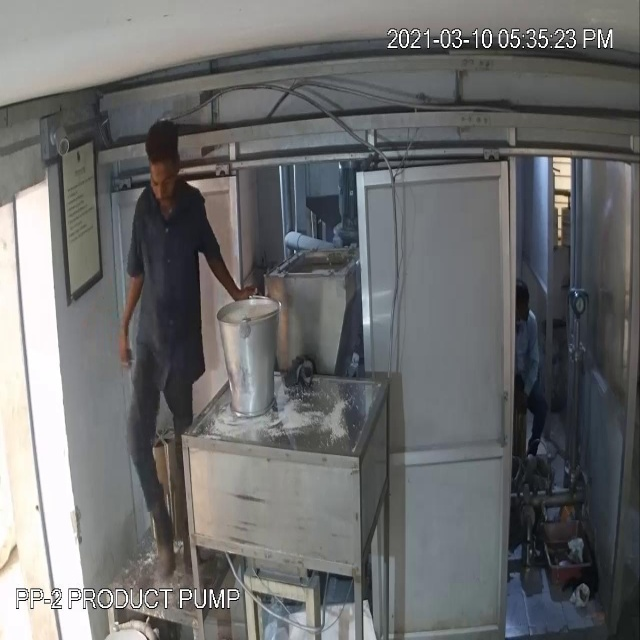Sin_guantes: (204, 220, 261, 312), (113, 264, 157, 375)
